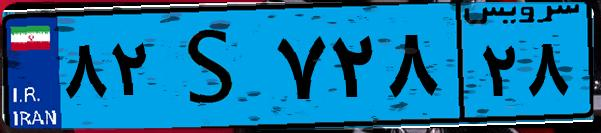2: (330, 28, 385, 110), (475, 38, 525, 113), (110, 28, 158, 98)
7: (270, 28, 330, 110)
8: (385, 28, 445, 110), (57, 26, 110, 100), (525, 38, 570, 115)
S: (158, 12, 270, 120)
